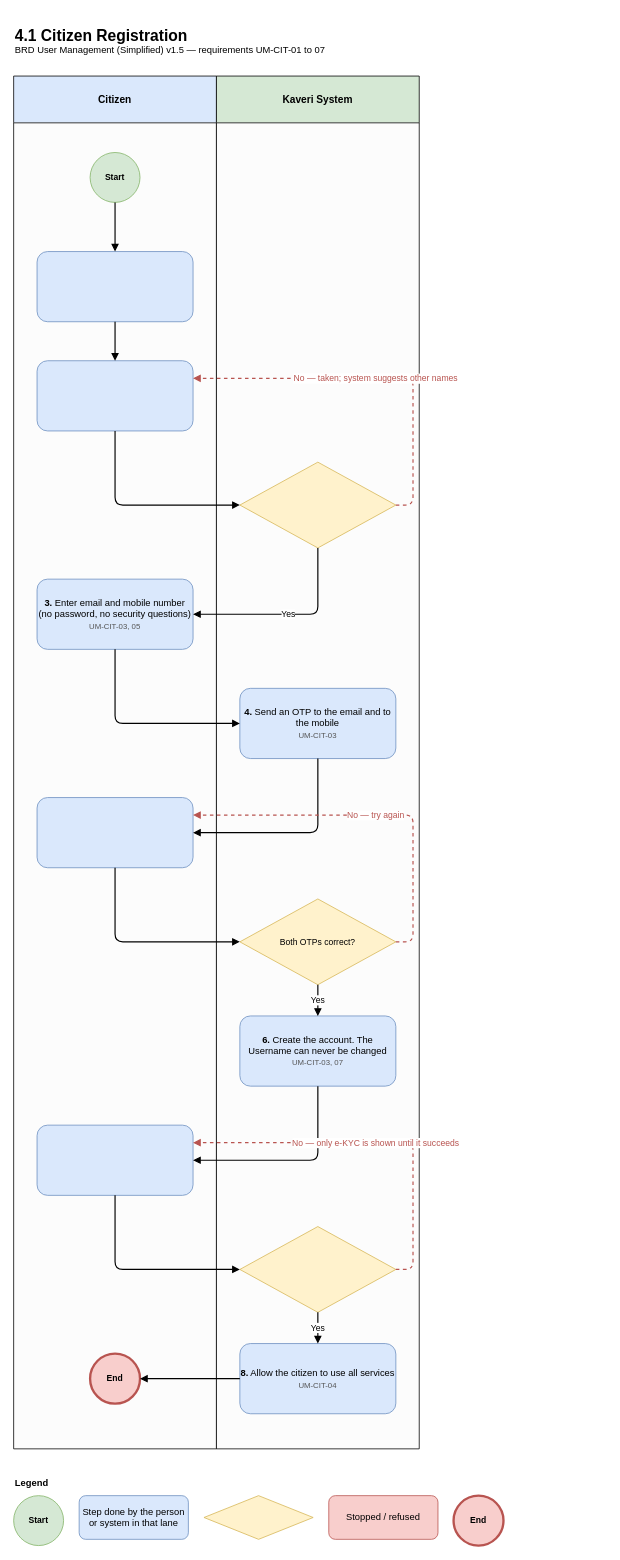
Image size: 620x1560. Some labels were removed from this diagram. Each missing label, with the box of its shape:
1. Open Kaveri and choose Register (any time, no approval needed) UM-CIT-01: (36, 251, 193, 322)
2. Choose a Username UM-CIT-02: (36, 360, 193, 431)
5. Enter both OTPs UM-CIT-03: (36, 797, 193, 868)
7. Sign in for the first time and complete Aadhaar e-KYC UM-CIT-04: (36, 1124, 193, 1195)
Check / choice: (203, 1495, 313, 1539)
e-KYC successful? UM-CIT-04: (239, 1226, 396, 1312)
Is the Username free? UM-CIT-02, 06: (239, 461, 396, 548)
